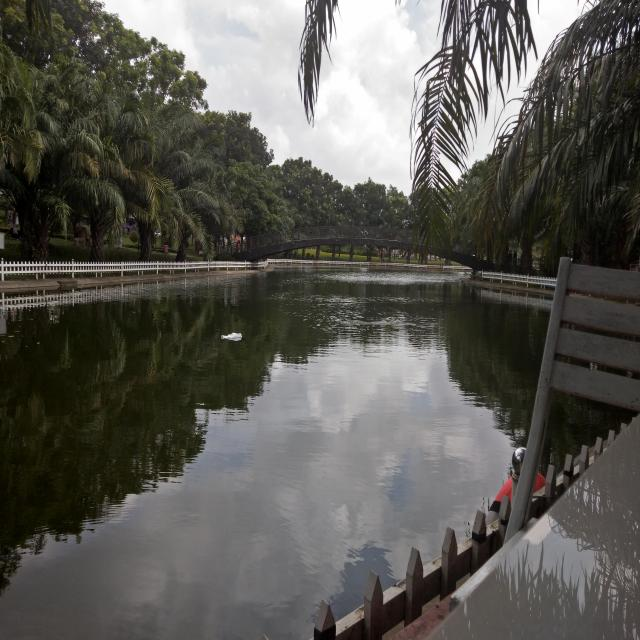Single-use carrier bag: (221, 333, 243, 338)
